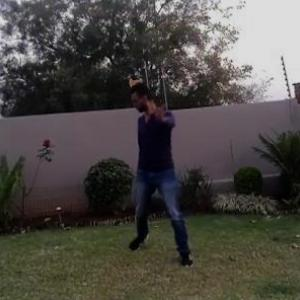takeoff-hand: (152, 94, 177, 128)
